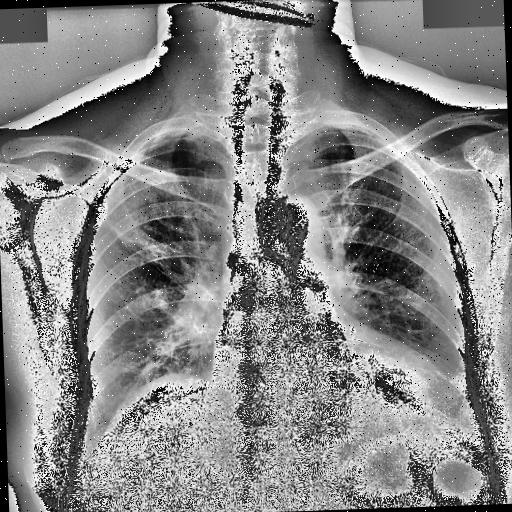0- Aortic enlargement: (256, 191, 324, 268), (258, 194, 326, 264), (264, 194, 322, 258)
10- Pleural effusion: (452, 363, 480, 407)
11- Pleural thickening: (142, 126, 220, 142), (452, 363, 480, 407), (307, 122, 374, 138)
13- Pulmonary fibrosis: (110, 222, 204, 312), (108, 227, 150, 262)
3- Cardiomegaly: (209, 331, 440, 441), (212, 332, 458, 434), (208, 331, 458, 429)
